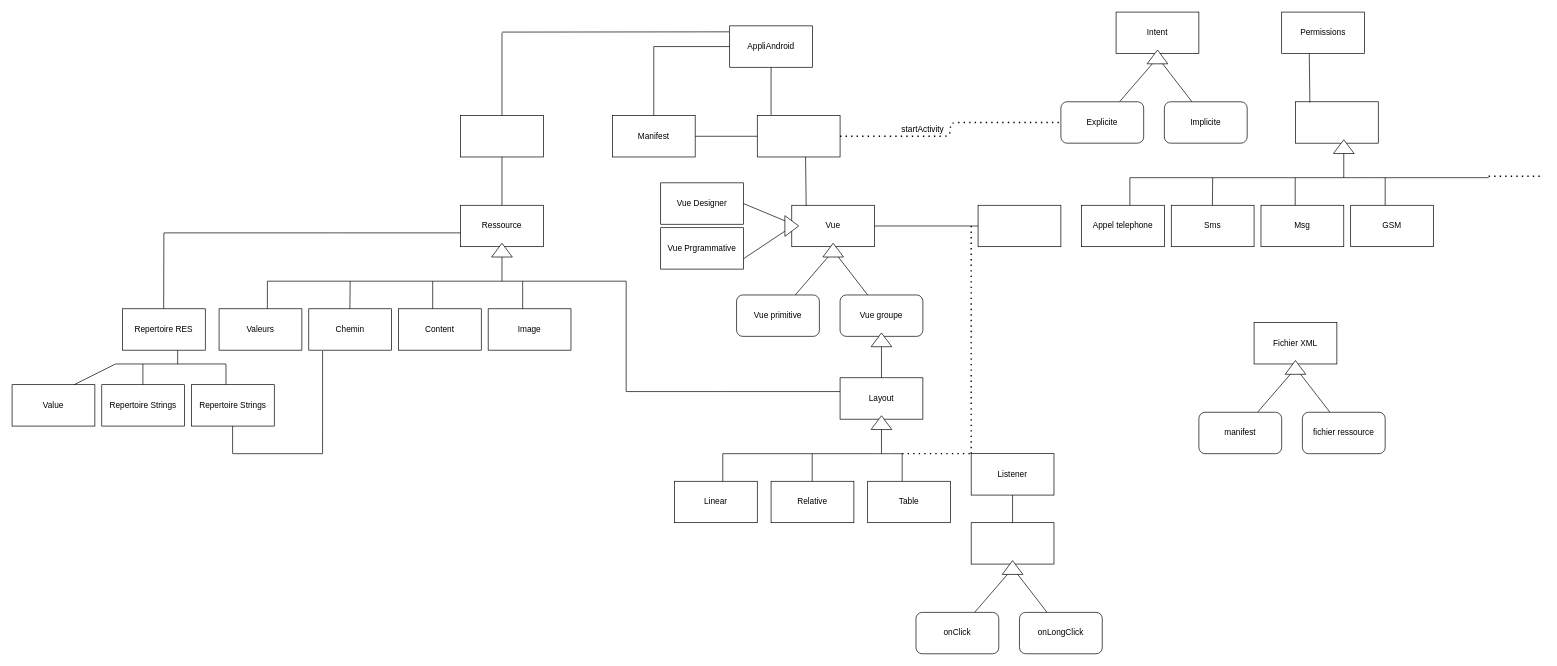
Image size: 1557x666. Some labels were removed from this diagram. The centre of each missing label's shape, as x and y in pixels:
"Action" goes at point 1336,122.
"Activite" goes at point 798,136.
"Callback" goes at point 1012,543.
"Class R" goes at point 501,136.
"Evenement" goes at point 1019,226.
